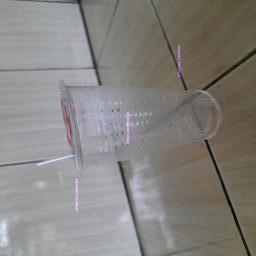plastic: (62, 87, 223, 171)
